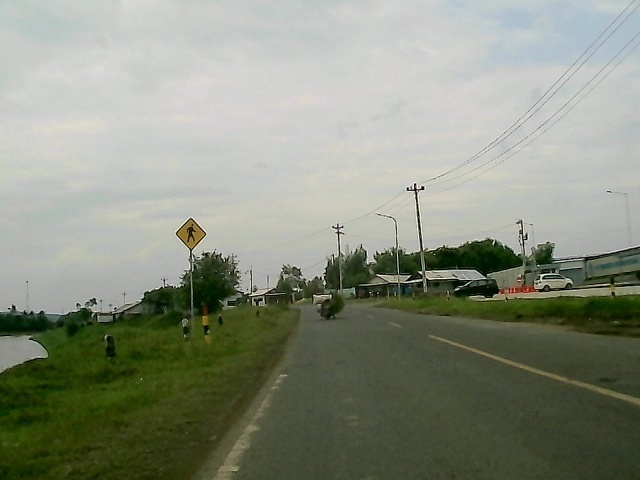Peringatan orang menyeberang: (174, 215, 207, 251)
